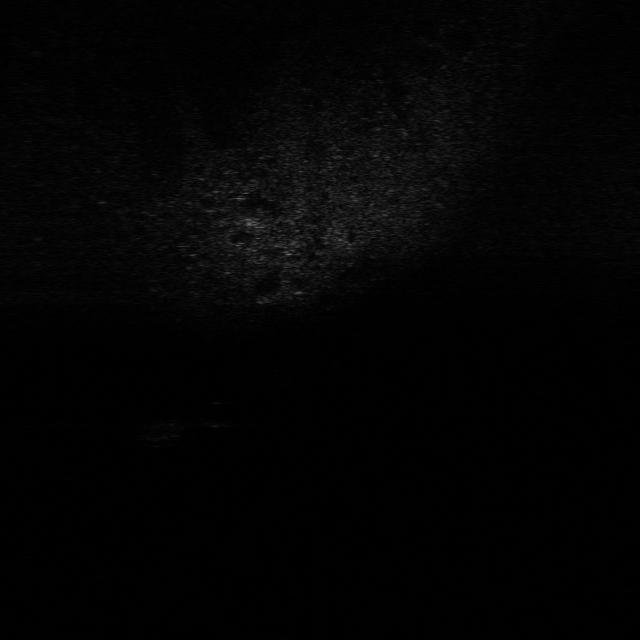ball: (198, 396, 246, 431)
circle cage: (136, 416, 197, 448)
